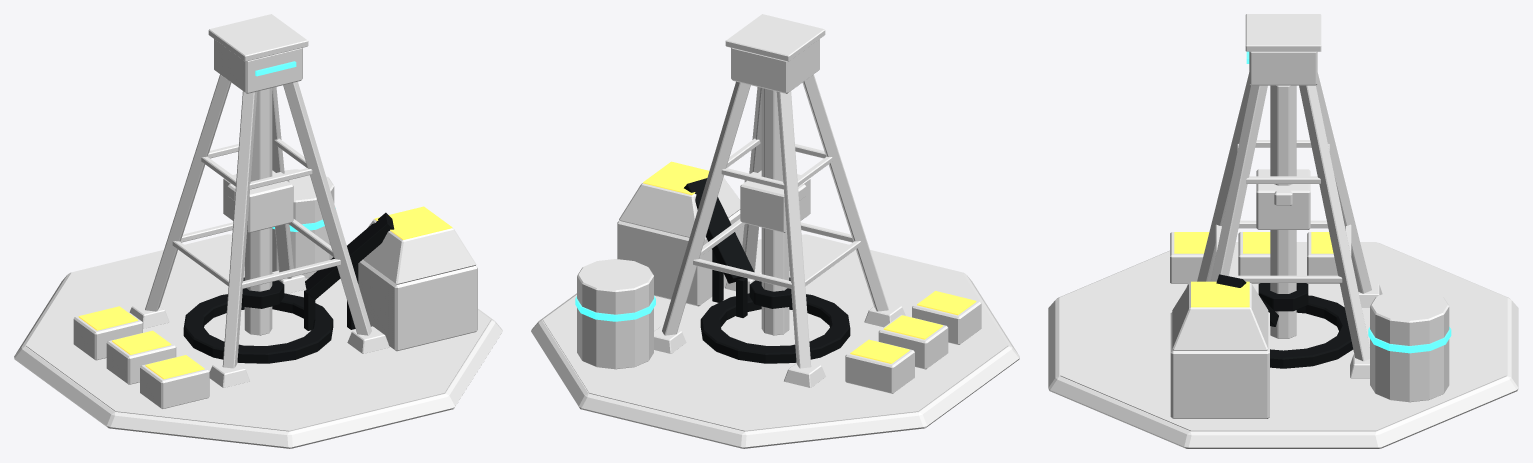
File: sb_mine_t1.glb
The picture shows the model from 3 angles, left to right: view 1: azimuth 30°, elevation 25°; view 2: azimuth 150°, elevation 25°; view 3: azimuth 270°, elevation 25°; orthographic projection. The views are drawn at different scales.
Visible parts, largest first — view 1: SM_MINE_DECK, SM_MINE_DERRICK, SM_MINE_BASE, SM_MINE_HOPPER, SM_MINE_BINS, SM_MINE_PIT_RIM, SM_MINE_HOPPER_TOP, SM_MINE_SHAFT, SM_MINE_CROWN_CAP, SM_MINE_CROWN, SM_MINE_TANK, SM_MINE_BINS_ORE (+5 smaller); view 2: SM_MINE_DECK, SM_MINE_DERRICK, SM_MINE_BASE, SM_MINE_TANK, SM_MINE_BINS, SM_MINE_PIT_RIM, SM_MINE_HOPPER, SM_MINE_SHAFT, SM_MINE_HOPPER_TOP, SM_MINE_CROWN, SM_MINE_CROWN_CAP, SM_MINE_CONVEYOR (+6 smaller); view 3: SM_MINE_DECK, SM_MINE_DERRICK, SM_MINE_BASE, SM_MINE_TANK, SM_MINE_HOPPER, SM_MINE_HOPPER_TOP, SM_MINE_SHAFT, SM_MINE_CROWN_CAP, SM_MINE_MOTOR, SM_MINE_BINS, SM_MINE_PIT_RIM, SM_MINE_CROWN (+5 smaller).
Part boxes in pixels (<box>): SM_MINE_DECK: <box>25,234,490,431</box>; SM_MINE_DERRICK: <box>145,74,371,368</box>; SM_MINE_BASE: <box>14,272,502,448</box>; SM_MINE_HOPPER: <box>358,260,477,351</box>; SM_MINE_BINS: <box>73,306,209,408</box>; SM_MINE_PIT_RIM: <box>183,293,333,363</box>; SM_MINE_HOPPER_TOP: <box>362,219,476,284</box>; SM_MINE_SHAFT: <box>244,88,272,335</box>; SM_MINE_CROWN_CAP: <box>208,14,308,61</box>; SM_MINE_CROWN: <box>214,39,302,93</box>; SM_MINE_TANK: <box>272,169,334,278</box>; SM_MINE_BINS_ORE: <box>78,306,204,379</box>; SM_MINE_DECK: <box>543,234,1008,431</box>; SM_MINE_DERRICK: <box>662,74,888,368</box>; SM_MINE_BASE: <box>531,272,1019,448</box>; SM_MINE_TANK: <box>577,259,653,369</box>; SM_MINE_BINS: <box>845,290,981,393</box>; SM_MINE_PIT_RIM: <box>700,293,850,363</box>; SM_MINE_HOPPER: <box>617,210,744,306</box>; SM_MINE_SHAFT: <box>761,88,789,335</box>; SM_MINE_HOPPER_TOP: <box>619,177,740,237</box>; SM_MINE_CROWN: <box>731,39,819,93</box>; SM_MINE_CROWN_CAP: <box>725,14,825,61</box>; SM_MINE_CONVEYOR: <box>684,178,753,317</box>; SM_MINE_DECK: <box>1060,242,1506,431</box>; SM_MINE_DERRICK: <box>1197,72,1371,361</box>; SM_MINE_BASE: <box>1048,243,1518,448</box>; SM_MINE_TANK: <box>1370,288,1449,402</box>; SM_MINE_HOPPER: <box>1170,312,1269,418</box>; SM_MINE_HOPPER_TOP: <box>1172,283,1268,350</box>; SM_MINE_SHAFT: <box>1270,85,1296,338</box>; SM_MINE_CROWN_CAP: <box>1245,14,1321,51</box>; SM_MINE_MOTOR: <box>1256,169,1310,229</box>; SM_MINE_BINS: <box>1170,232,1339,283</box>; SM_MINE_PIT_RIM: <box>1270,295,1353,368</box>; SM_MINE_CROWN: <box>1249,51,1317,85</box>.
Size of the model in its own units: 26.08 by 19.6 by 26.08.
